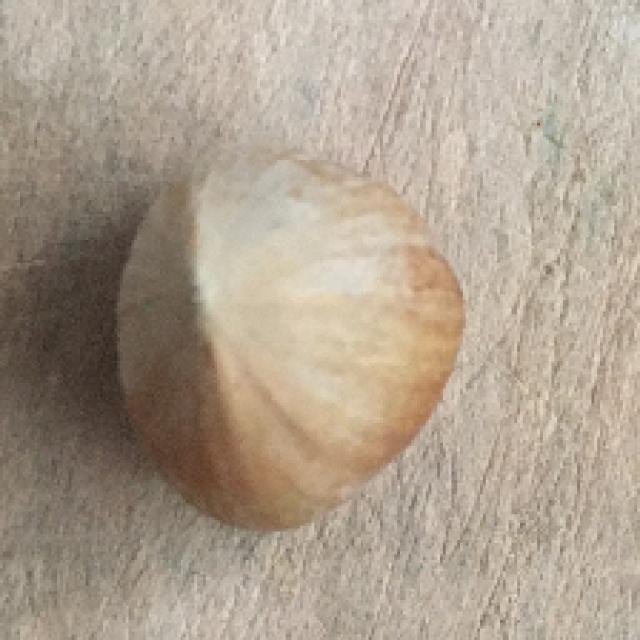qualityHazelnut: (119, 144, 466, 531)
